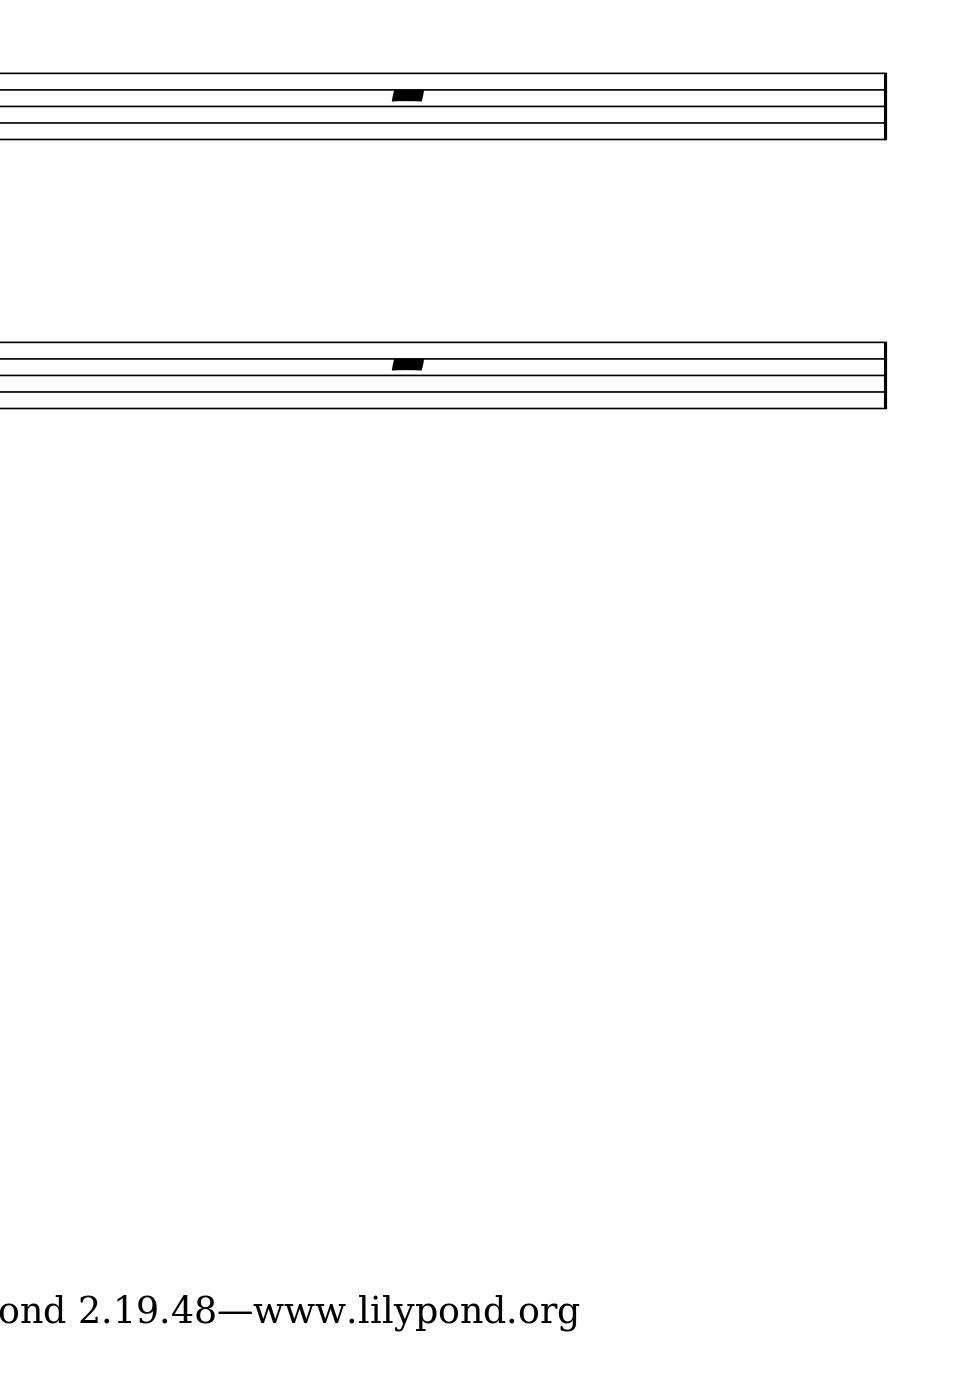Rests1: (386, 84, 428, 106), (386, 353, 428, 375)
Single_barline: (876, 343, 893, 409), (876, 73, 893, 139)
